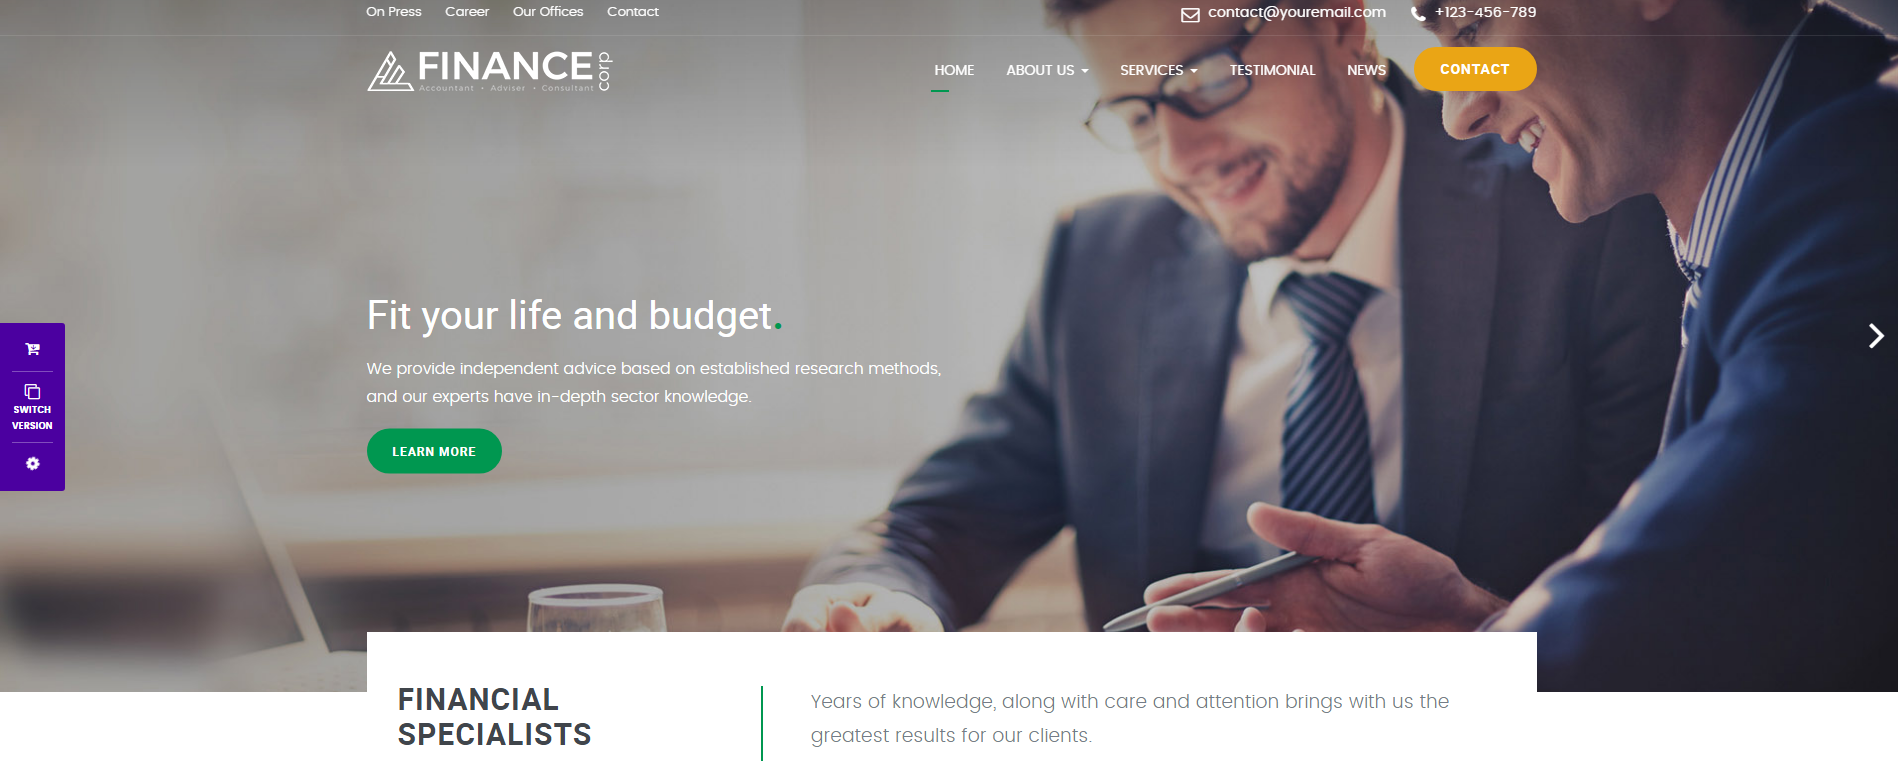menu-icon: (6, 12, 1890, 180)
